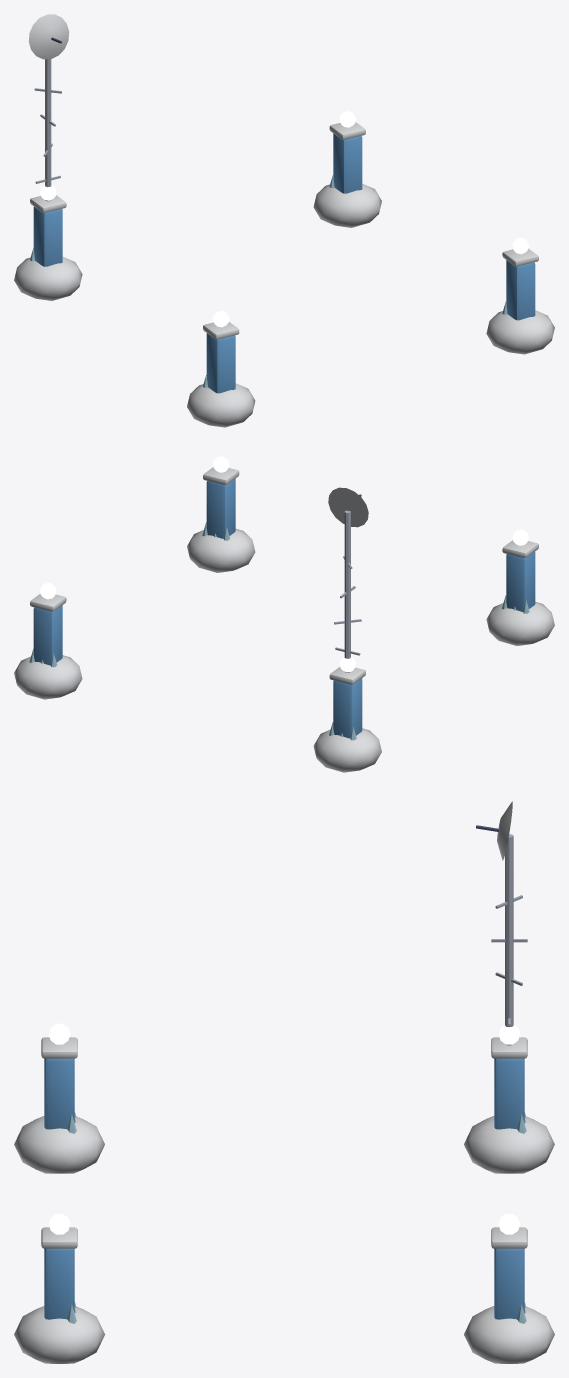
The model's file is lo_bskin_polarstation.glb.
3 views of the same model, one above another, from view 1: azimuth 30°, elevation 25°; view 2: azimuth 150°, elevation 25°; view 3: azimuth 270°, elevation 25° (orthographic). The views are drawn at different scales.
Visible parts, largest first — view 1: body, spin_dish, lamp_glow; view 2: body, spin_dish, lamp_glow; view 3: body, lamp_glow.
Boxes of the visible parts, box(x1,y1,x2,y2) form: body: box(14, 59, 554, 427); spin_dish: box(28, 14, 69, 59); lamp_glow: box(40, 111, 528, 327); body: box(14, 467, 554, 772); spin_dish: box(328, 487, 368, 527); lamp_glow: box(40, 456, 528, 672); body: box(14, 834, 554, 1363); lamp_glow: box(48, 1023, 520, 1234).
Bounding box in the file's own units: 8.83 × 6.63 × 8.9.
